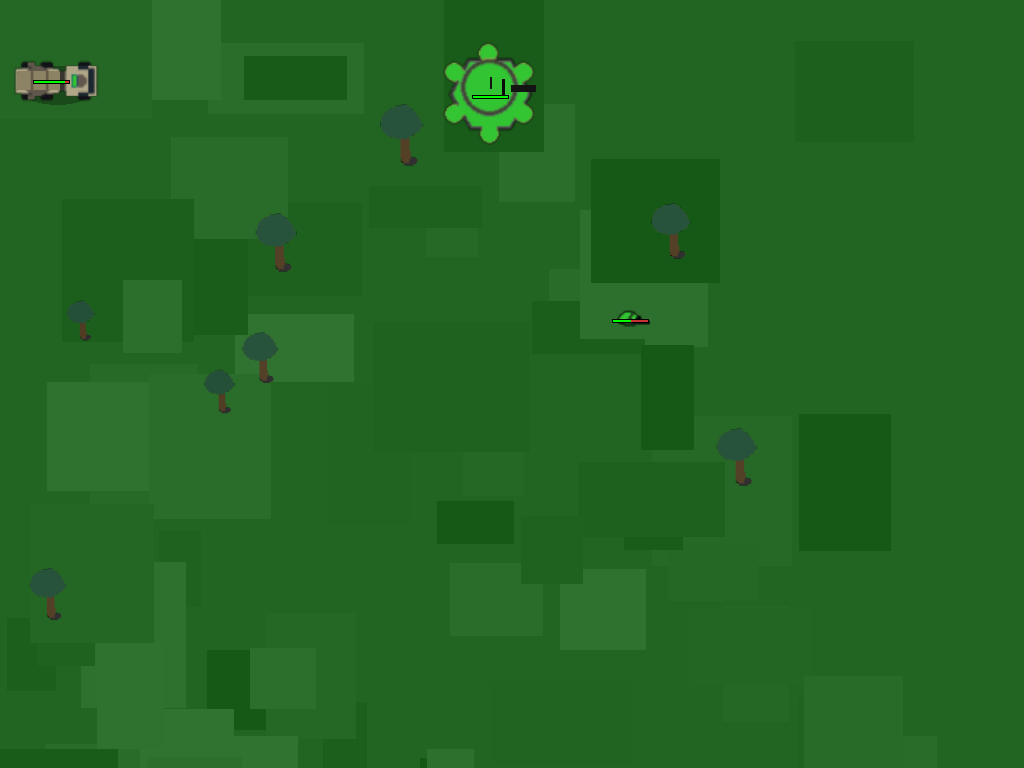Bunker: (440, 44, 539, 143)
HIMARS: (14, 42, 88, 116)
Sniper: (609, 297, 650, 338)
